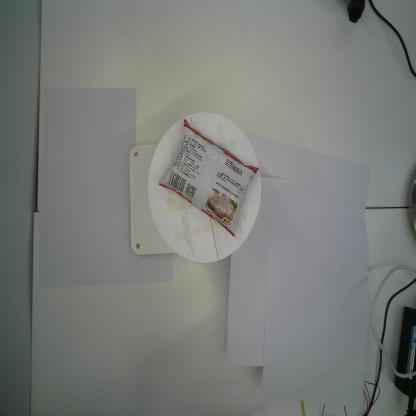Seasoner: (158, 118, 260, 237)
